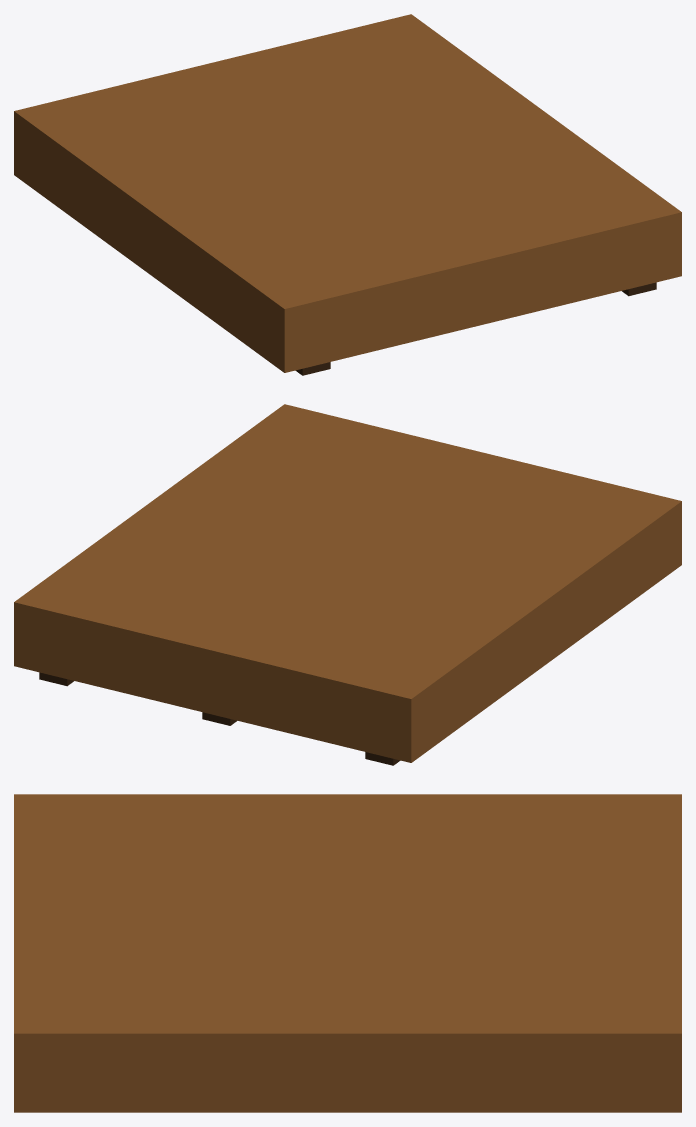
Rendered from seat.glb.
3 renders of one model, top to bottom at view 1: azimuth 30°, elevation 25°; view 2: azimuth 150°, elevation 25°; view 3: azimuth 270°, elevation 25°, orthographic. The views are drawn at different scales.
Bounding box in the file's own units: 0.78 × 0.14 × 0.92.
